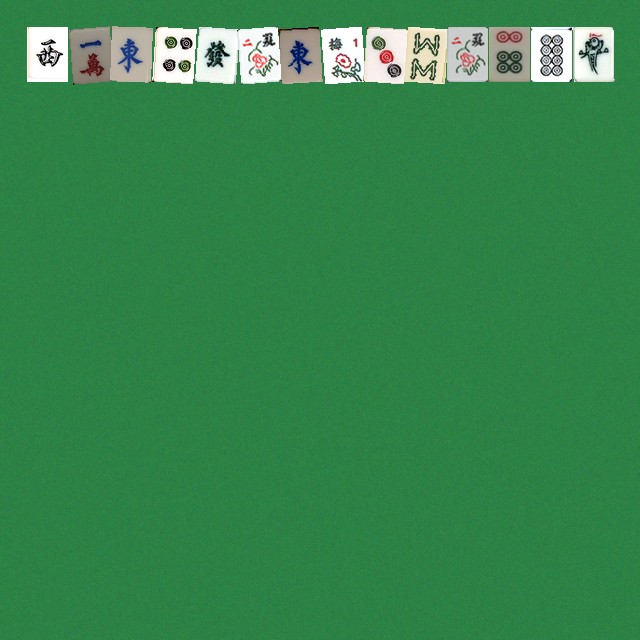tile: (26, 26, 67, 81), (68, 26, 109, 81), (110, 26, 151, 81), (152, 26, 193, 81), (194, 26, 235, 81), (236, 26, 277, 81), (278, 26, 319, 81), (320, 26, 361, 81), (362, 26, 403, 81), (404, 26, 445, 81), (446, 26, 487, 81), (488, 26, 529, 81), (530, 26, 571, 81), (572, 26, 613, 81)
